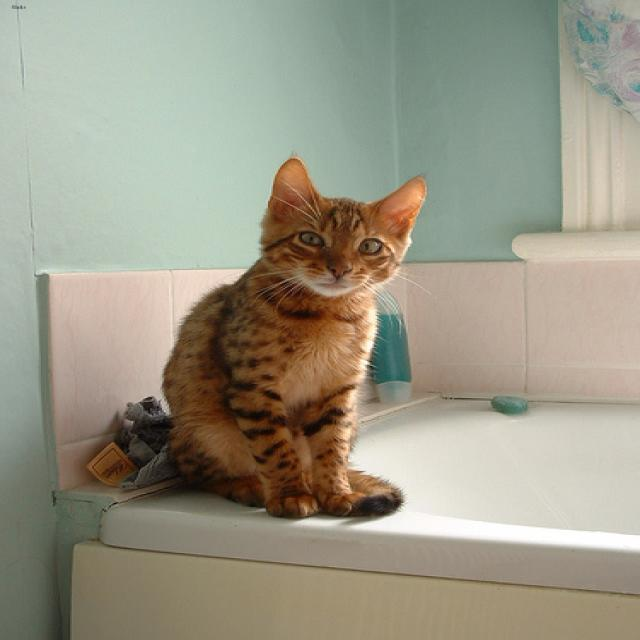Bengal: (260, 156, 428, 304)
